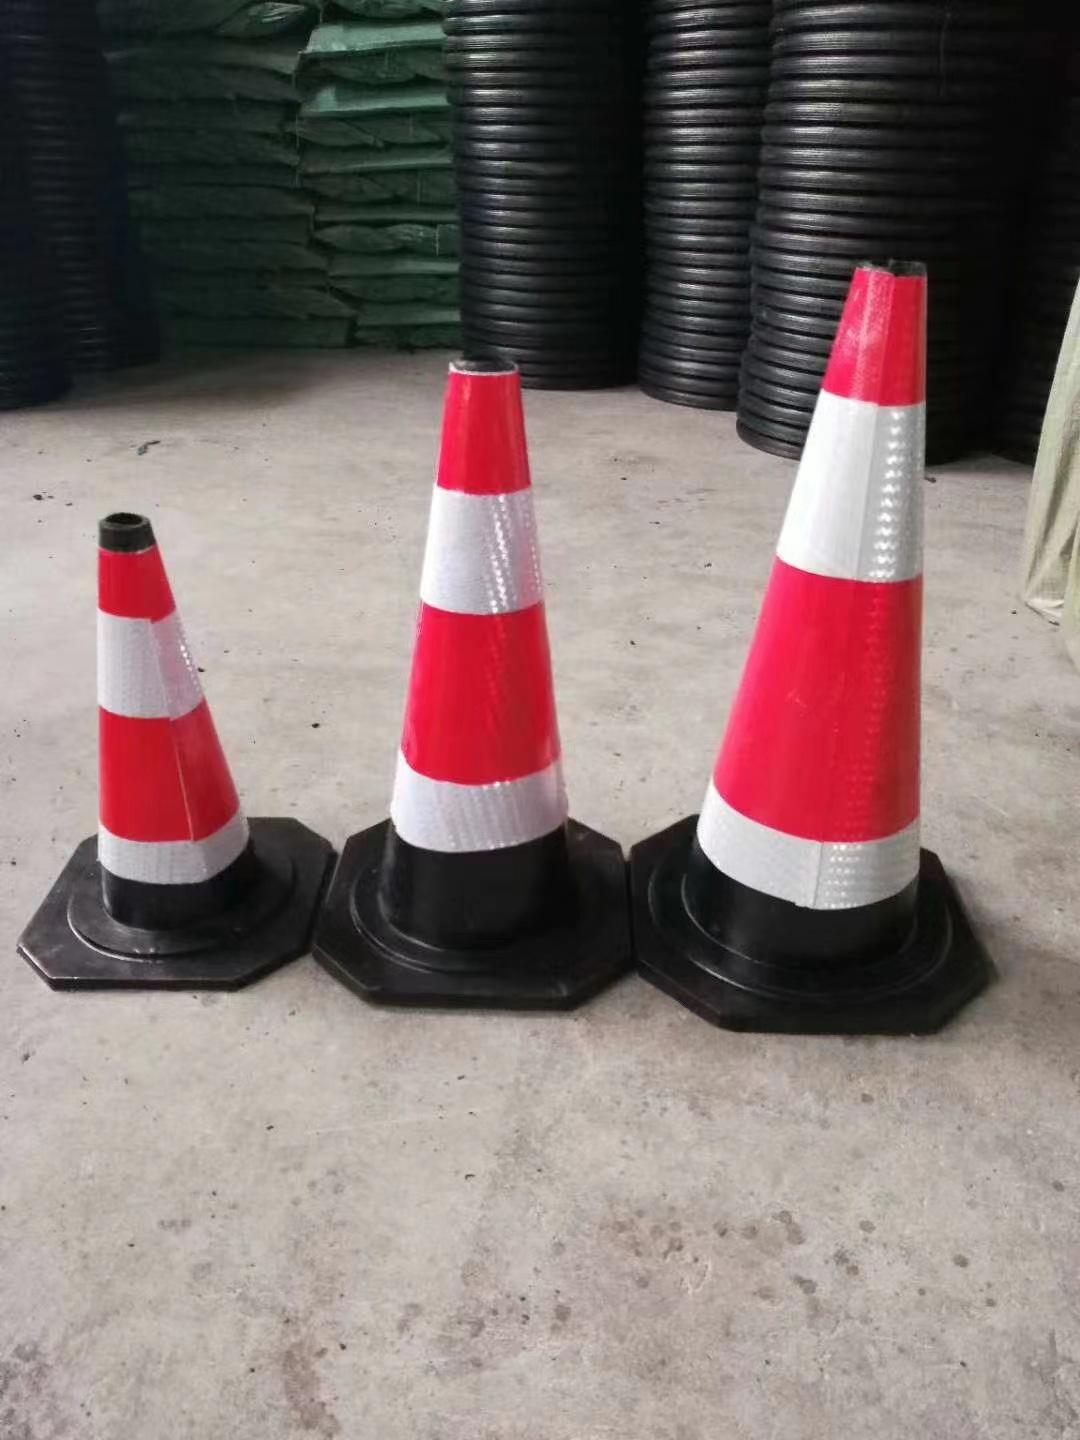traffic_cone: (642, 225, 1023, 1070), (297, 319, 656, 1044), (1, 492, 346, 1003)
